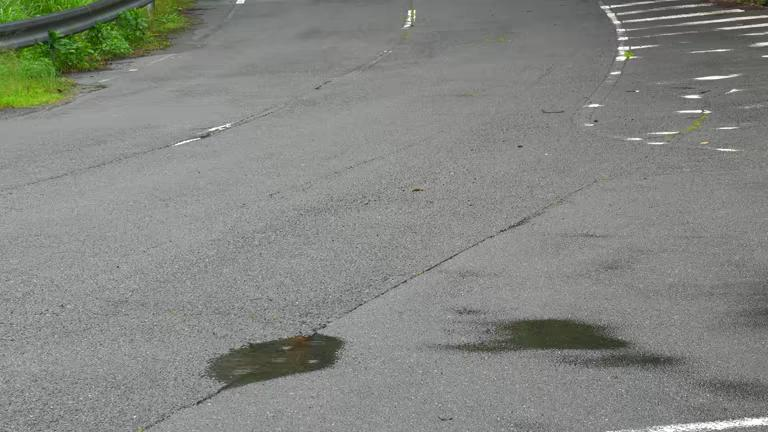faded_road_lines: (580, 0, 768, 157), (59, 1, 248, 92), (161, 105, 267, 154), (328, 42, 397, 88), (397, 6, 420, 37)
